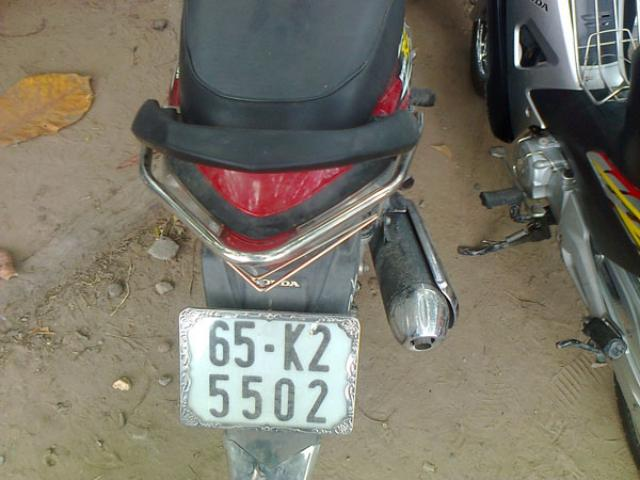plate: (180, 307, 360, 441)
